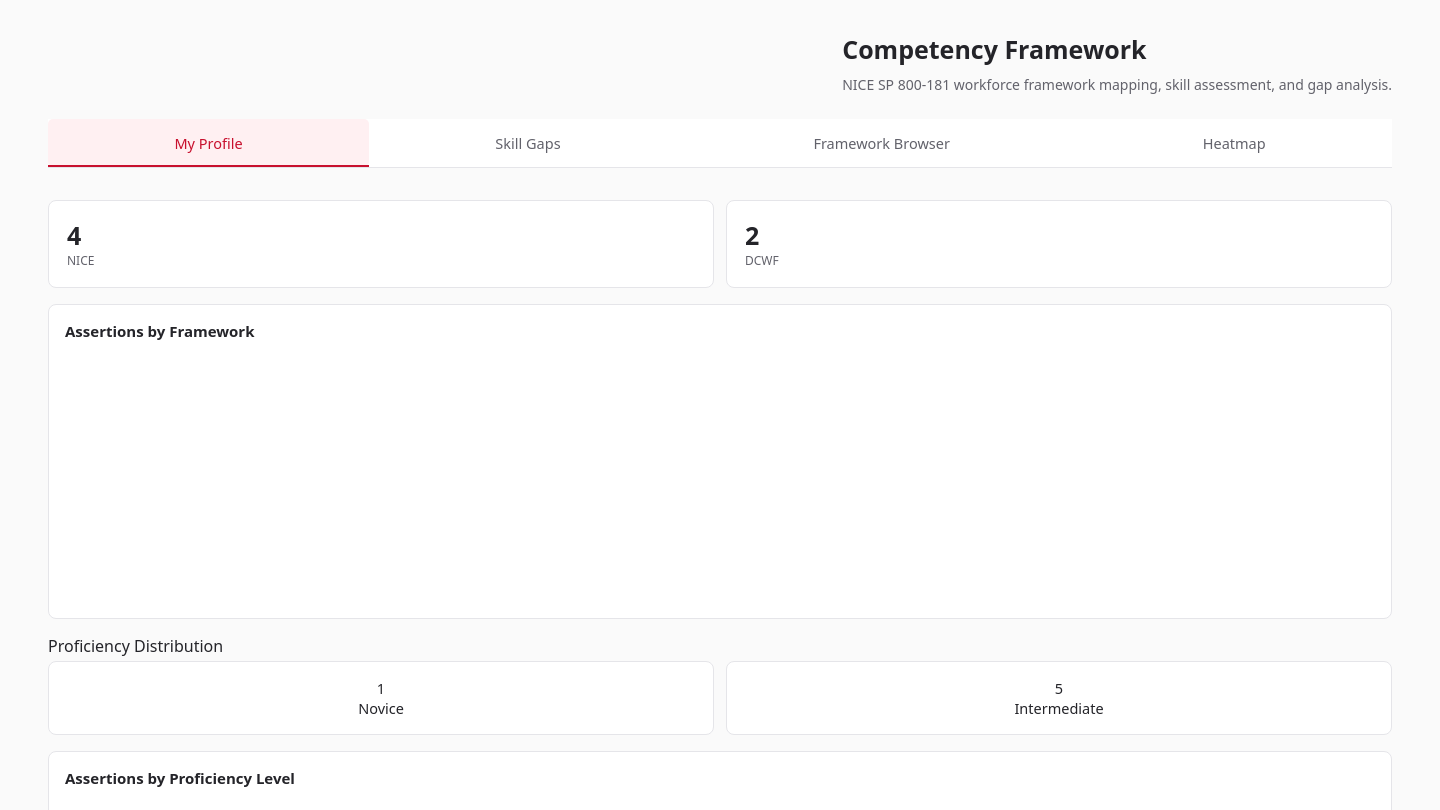
Scenario: CompetencyComponent › lists competencies in the framework browser
Click the tab "Framework Browser": (882, 143) [813, 133, 950, 153]
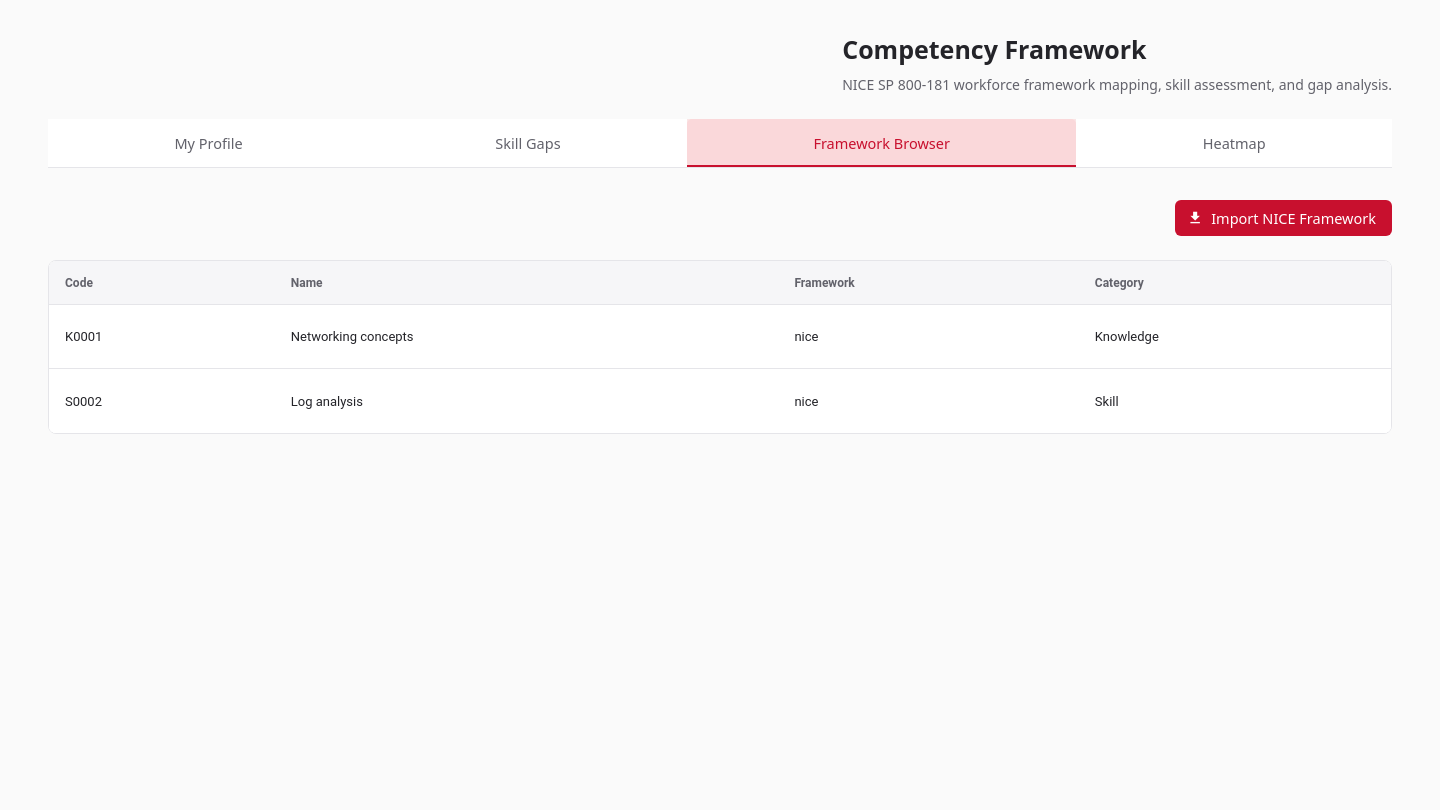
Check: the row "S0002 Log analysis nice Skill" is shown, box [49, 369, 1391, 433]
